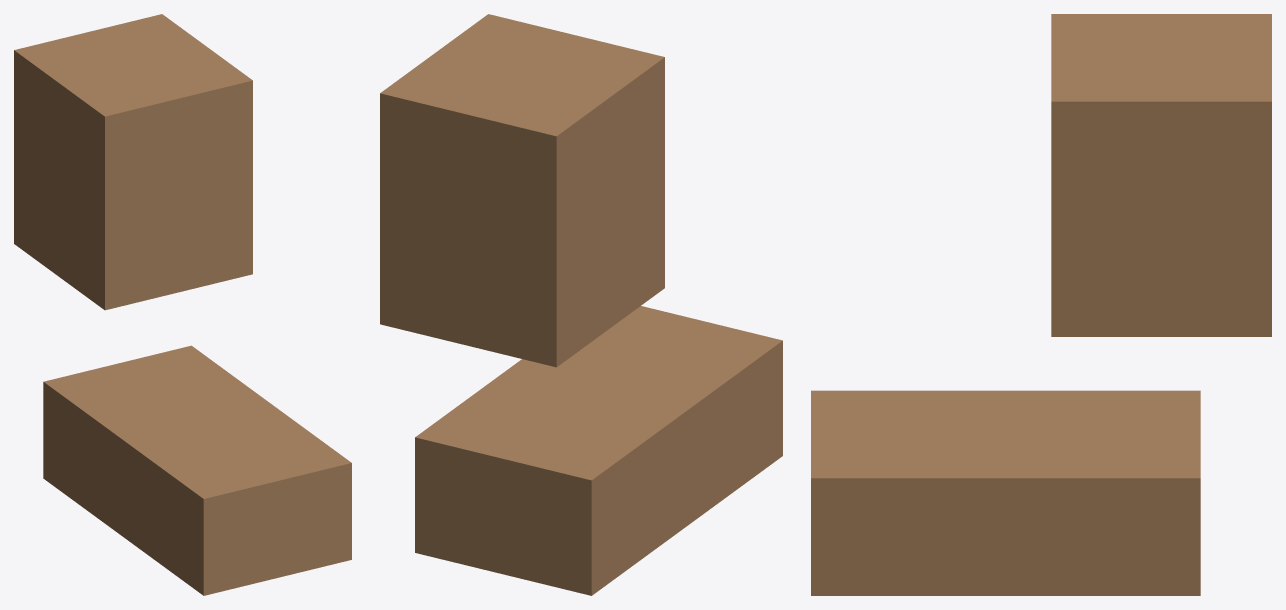
Rendered from Boot.fbx.
3 renders of one model, left to right at view 1: azimuth 30°, elevation 25°; view 2: azimuth 150°, elevation 25°; view 3: azimuth 270°, elevation 25°, orthographic. The views are drawn at different scales.
Parts seen in each view (by area): view 1: Boot; view 2: Boot; view 3: Boot.
Boxes of the visible parts, bbox=[...] form: Boot: bbox=[14, 14, 351, 595]; Boot: bbox=[380, 14, 782, 595]; Boot: bbox=[811, 14, 1271, 595].
Bounding box in the file's own units: 0.16 × 0.42 × 0.355.
